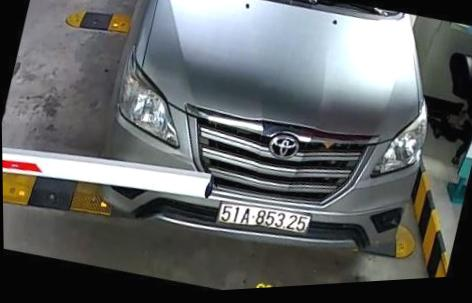License_Plate: (209, 193, 307, 249)
